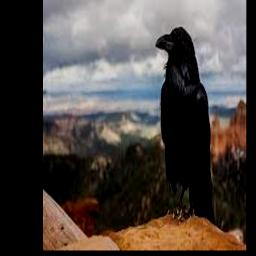Crow: (155, 26, 215, 224)
